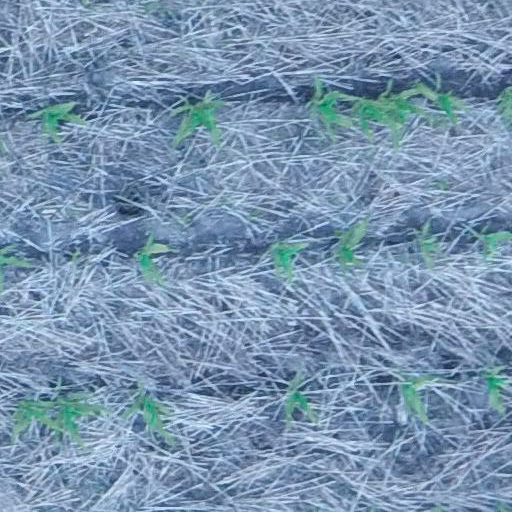planta: (377, 80, 428, 147), (47, 393, 106, 448), (122, 382, 176, 442), (309, 77, 360, 137), (169, 94, 224, 146), (27, 99, 86, 142), (11, 395, 61, 444), (352, 95, 399, 146), (134, 227, 174, 285), (400, 373, 443, 420), (415, 82, 461, 123), (284, 374, 318, 426), (333, 217, 368, 265), (270, 241, 307, 283), (481, 370, 506, 418), (418, 219, 437, 267)
